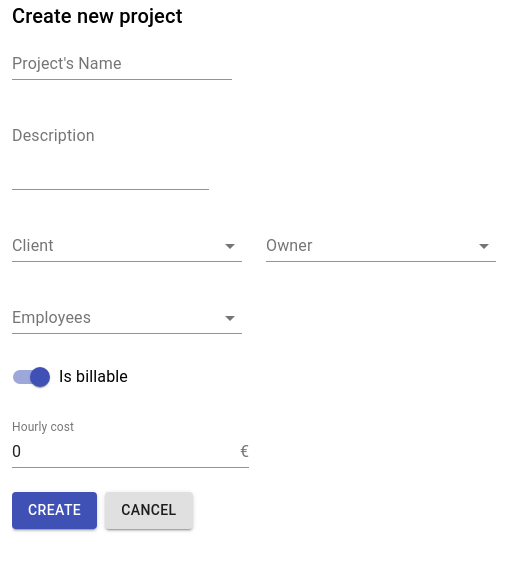
Test case: add project form › empty form › has employee, client and owner selects containing fetched employees, clients and managers
Expected: the heading "Create new project" is shown, [12,4,182,28]
Press the mouse on the button named "Client" next to "Client" at (127,246), box [12,230,242,262]
Press the mouse on the button named "Owner" next to "Owner" at (381,246), box [266,230,496,262]
Press the mouse on the button named "Employees" next to "Employees" at (127,318), box [12,302,242,334]
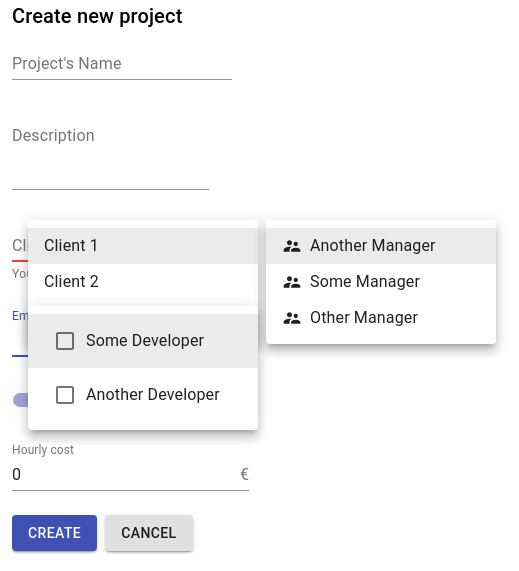
Expected: the text "Client 1" is shown, [44,236,99,255]
Expected: the text "Client 2" is shown, [44,272,99,291]
